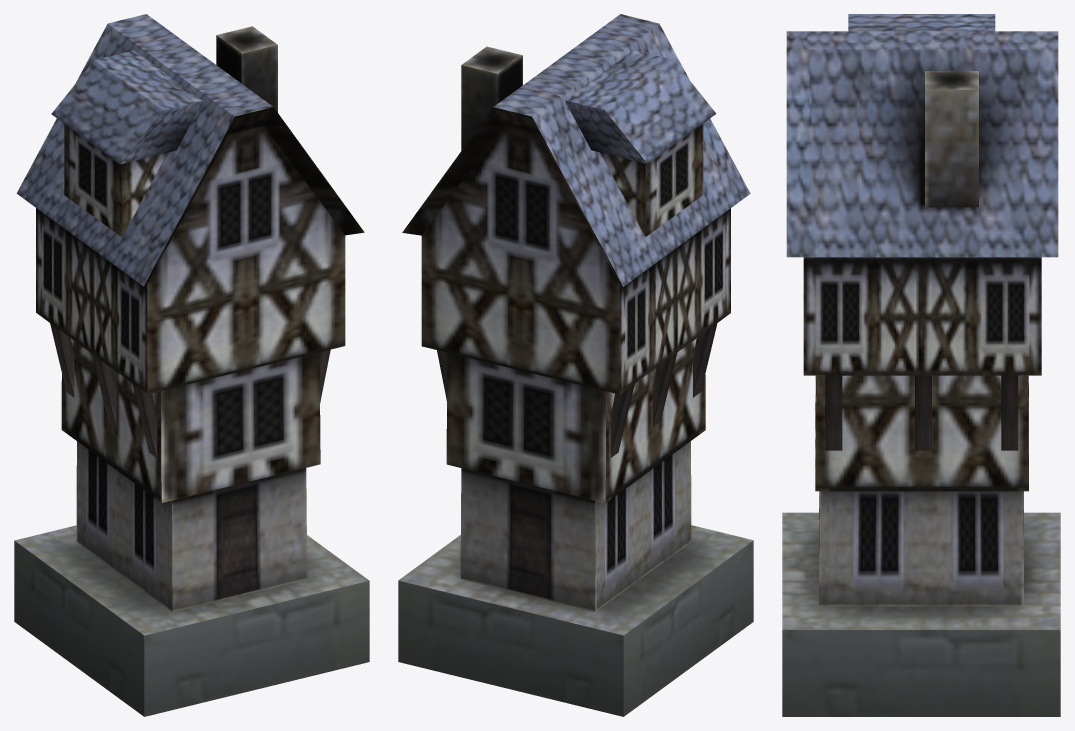
Rendered from med_tile_big_blue_hse.obj.
The picture shows the model from 3 angles, left to right: view 1: azimuth 30°, elevation 25°; view 2: azimuth 150°, elevation 25°; view 3: azimuth 270°, elevation 25°; orthographic projection. The views are drawn at different scales.
Visible parts, largest first — view 1: boundary_big_blue_house01; view 2: boundary_big_blue_house01; view 3: boundary_big_blue_house01.
Boxes of the visible parts, x1=… form: boundary_big_blue_house01: x1=14, y1=14, x2=369, y2=716; boundary_big_blue_house01: x1=398, y1=14, x2=753, y2=716; boundary_big_blue_house01: x1=782, y1=14, x2=1060, y2=716.
Bounding box in the file's own units: 1 × 2.45 × 1.
Materials: 1 (1 with a texture image).
